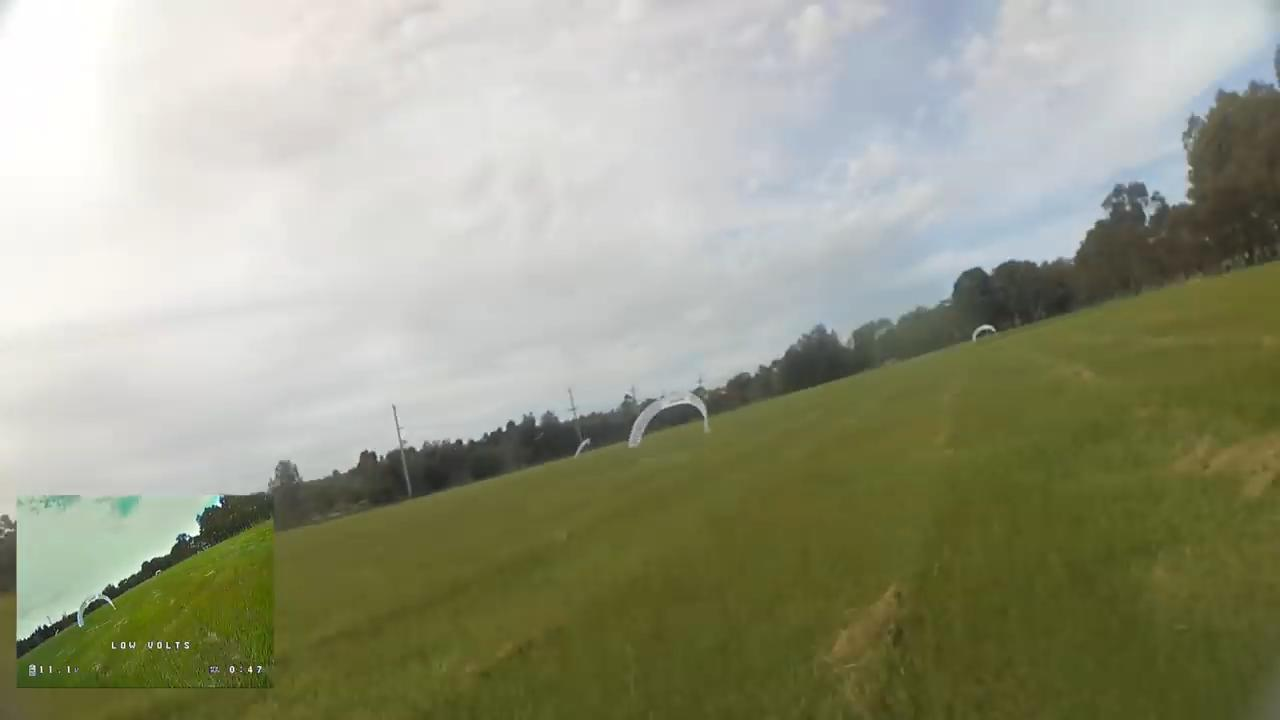gate: (624, 393, 712, 448)
